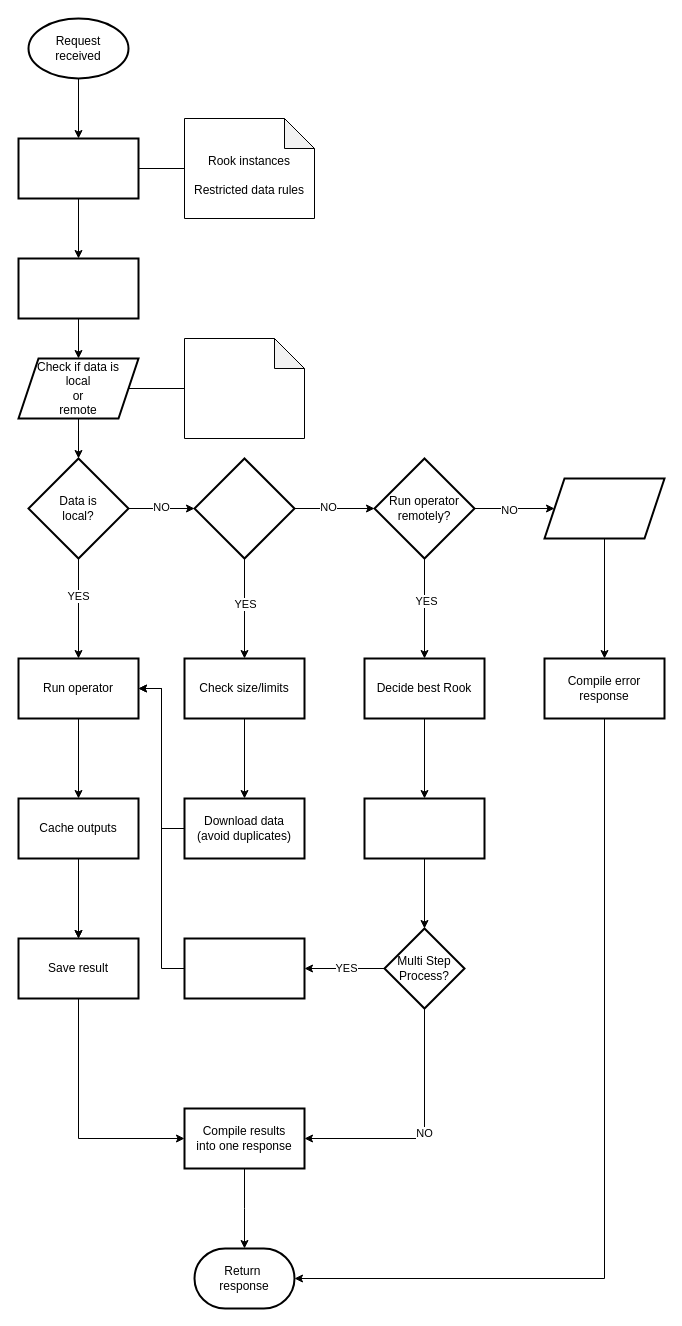
Image size: 682x1326. Some labels were removed from this diagram. The centre of each missing label's shape, as x and y in pixels:
"Data is restricted or not available" belongs at [604,508].
"Download data?" belongs at [244,508].
"Download remote results" belongs at [244,968].
"Forward request" belongs at [424,828].
"Read config" belongs at [78,168].
"Run workflow (on local Rook)" belongs at [78,288].
"Use ESGF search to locate datasets" belongs at [244,388].
